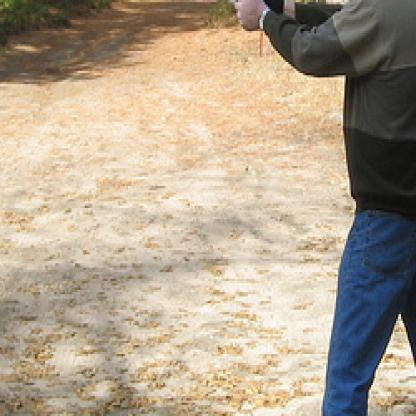gun: (156, 0, 275, 36)
